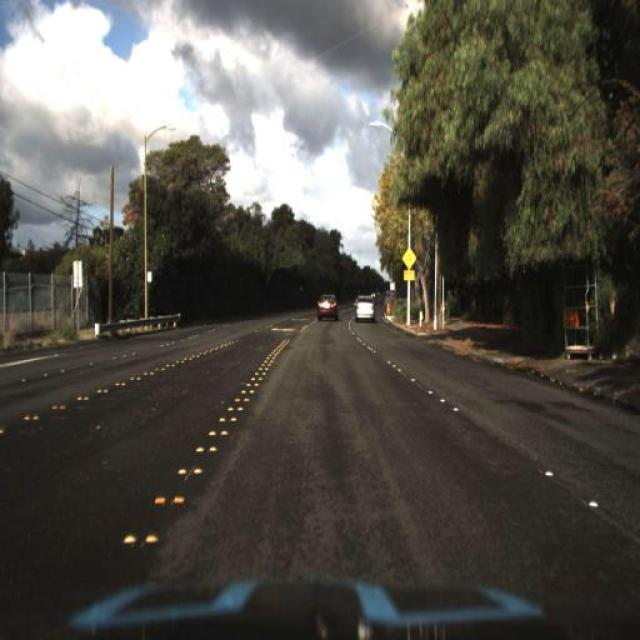car: (313, 287, 342, 327), (350, 292, 378, 324)
